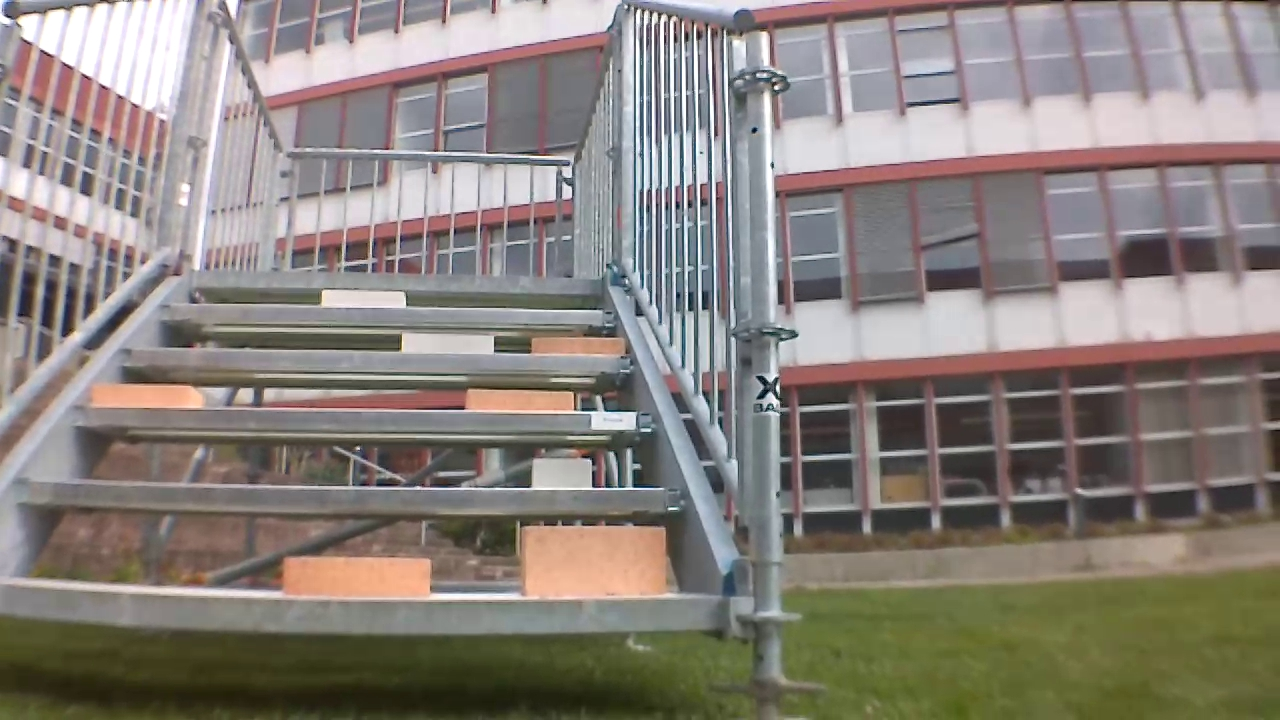brick: (515, 528, 668, 595), (280, 557, 447, 592), (456, 389, 583, 416), (524, 336, 621, 363), (521, 451, 597, 484), (91, 386, 197, 404), (316, 287, 404, 306), (404, 335, 492, 352)
edge: (0, 590, 731, 627), (9, 484, 695, 513), (68, 410, 662, 434), (149, 303, 619, 326), (110, 353, 637, 373), (178, 276, 609, 294)
stairs: (0, 1, 777, 687)
steps: (0, 270, 736, 644)
